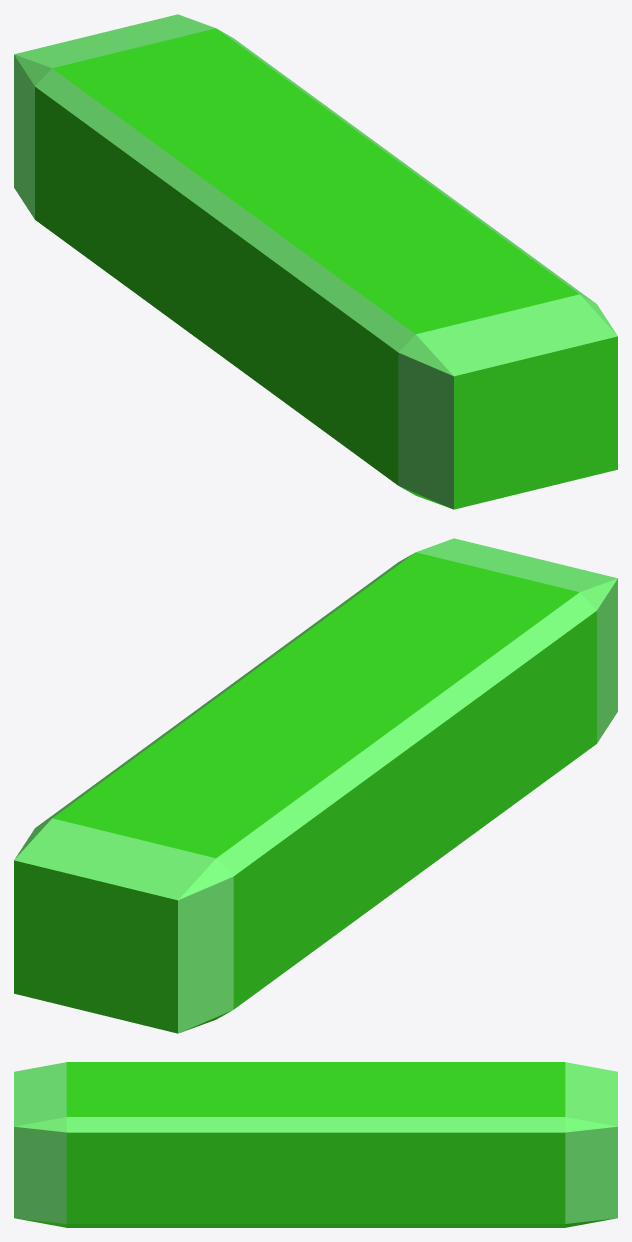
The model's file is Border Plant.fbx.
The picture shows the model from 3 angles, top to bottom: view 1: azimuth 30°, elevation 25°; view 2: azimuth 150°, elevation 25°; view 3: azimuth 270°, elevation 25°; orthographic projection. The views are drawn at different scales.
Parts seen in each view (by area): view 1: Border Plant; view 2: Border Plant; view 3: Border Plant.
Part boxes in pixels (box(x1,y1,x2,y2)): Border Plant: box(14, 14, 617, 509); Border Plant: box(14, 538, 617, 1033); Border Plant: box(14, 1062, 617, 1227).
Bounding box in the file's own units: 733 × 569 × 2815.
